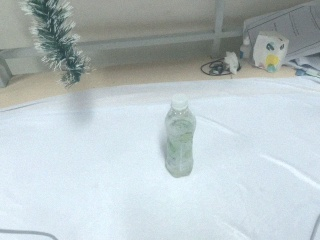bottle: (162, 93, 197, 179)
